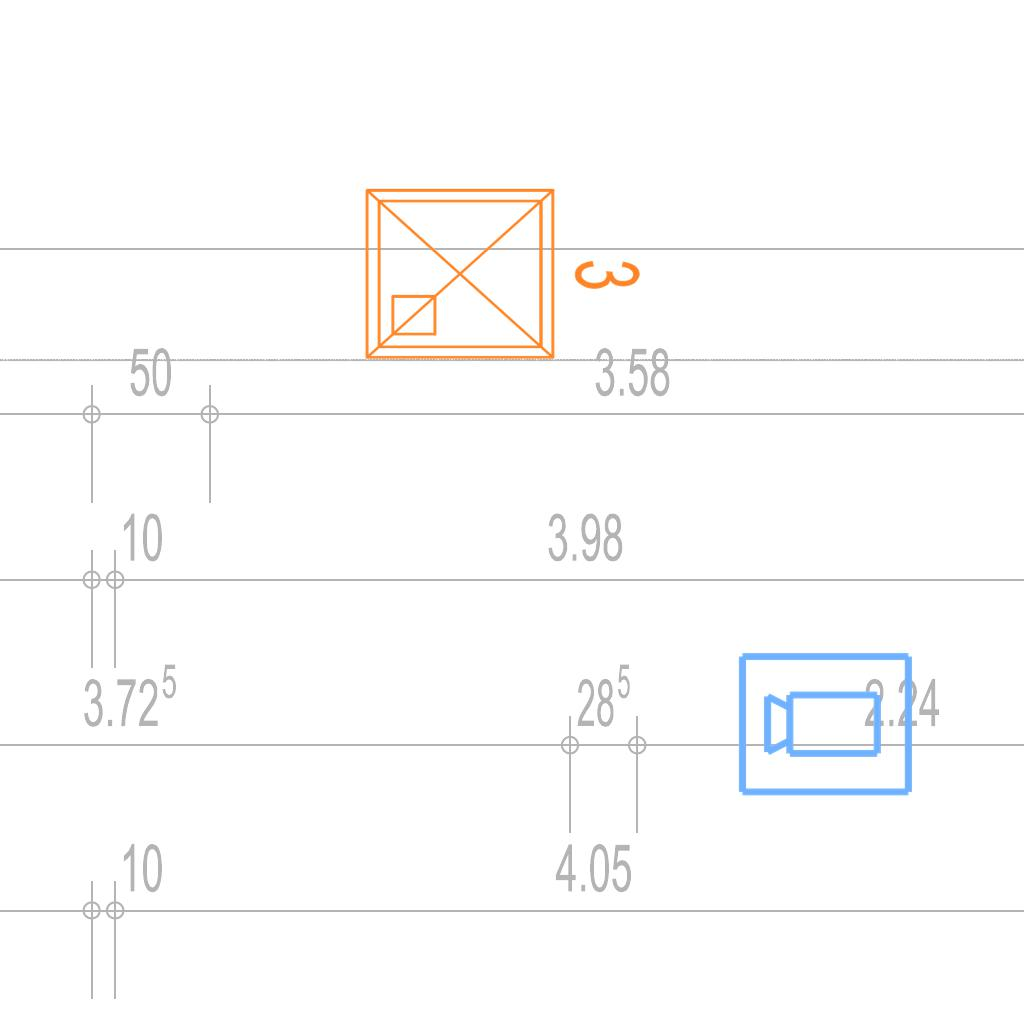Einbaudownlights_LED_Konferenzraeume: (351, 166, 651, 374)
KFO_Kamera_mit_Festobjektiv: (735, 646, 917, 800)
